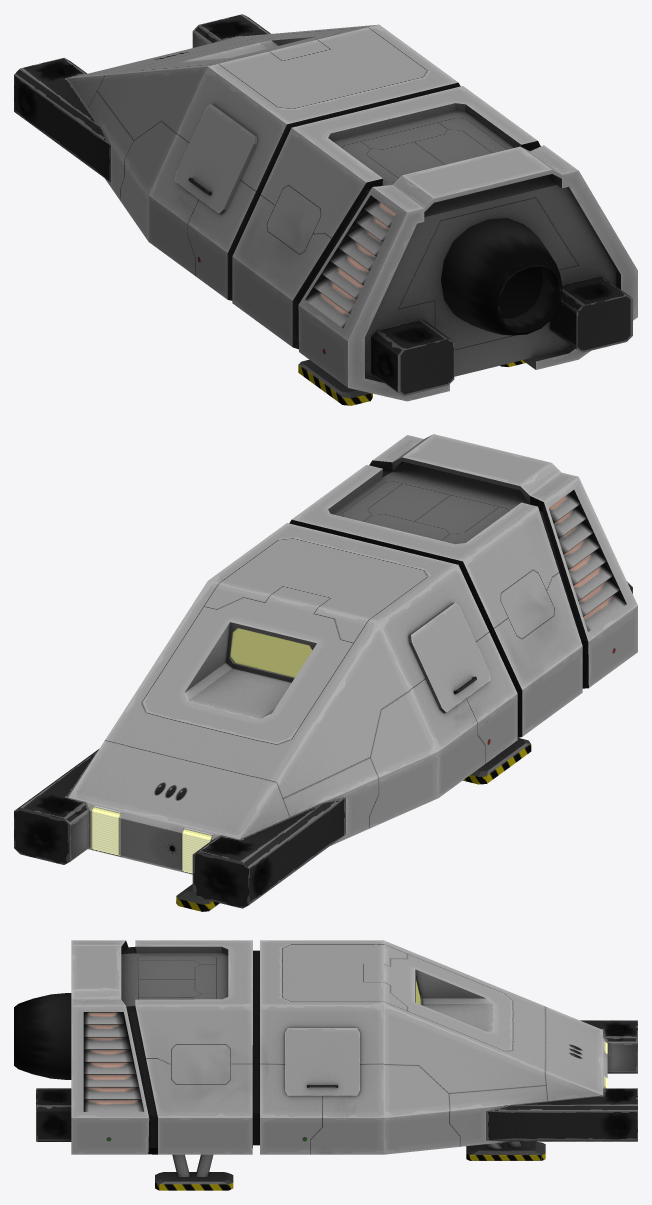
File: shuttle.fbx
The picture shows the model from 3 angles, top to bottom: view 1: azimuth 30°, elevation 25°; view 2: azimuth 150°, elevation 25°; view 3: azimuth 270°, elevation 25°; orthographic projection. The views are drawn at different scales.
Parts seen in each view (by area): view 1: Material_003-material.003, Exaust-material, Material_003-material; view 2: Material_003-material.003, Material_003-material; view 3: Material_003-material.003, Exaust-material, Material_003-material.001, Material_003-material.002.
Part boxes in pixels (bbox=[...]): Material_003-material.003: bbox=[14, 14, 637, 401]; Exaust-material: bbox=[441, 218, 562, 335]; Material_003-material: bbox=[298, 359, 372, 405]; Material_003-material.003: bbox=[14, 434, 637, 908]; Material_003-material: bbox=[463, 738, 531, 784]; Material_003-material.003: bbox=[36, 940, 637, 1154]; Exaust-material: bbox=[14, 993, 71, 1079]; Material_003-material.001: bbox=[155, 1154, 233, 1190]; Material_003-material.002: bbox=[466, 1141, 545, 1160].
Size of what is drawn, in the model's own units: 380 by 299 by 905.
Materials: 3 (3 with a texture image).
